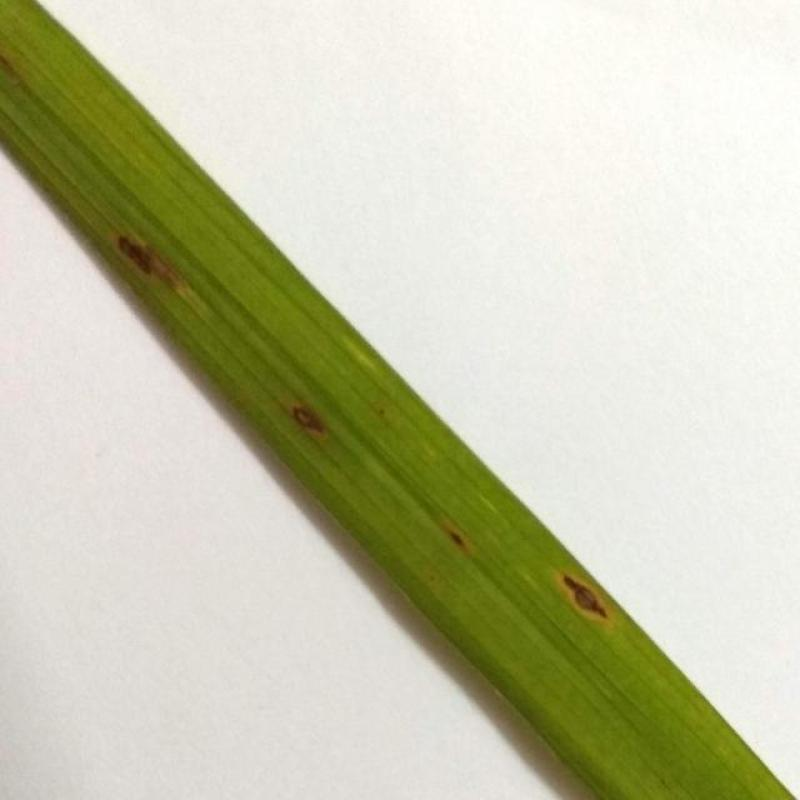Leaf_Blast: (84, 208, 205, 330), (264, 366, 361, 445), (531, 542, 610, 630), (431, 500, 485, 574)
